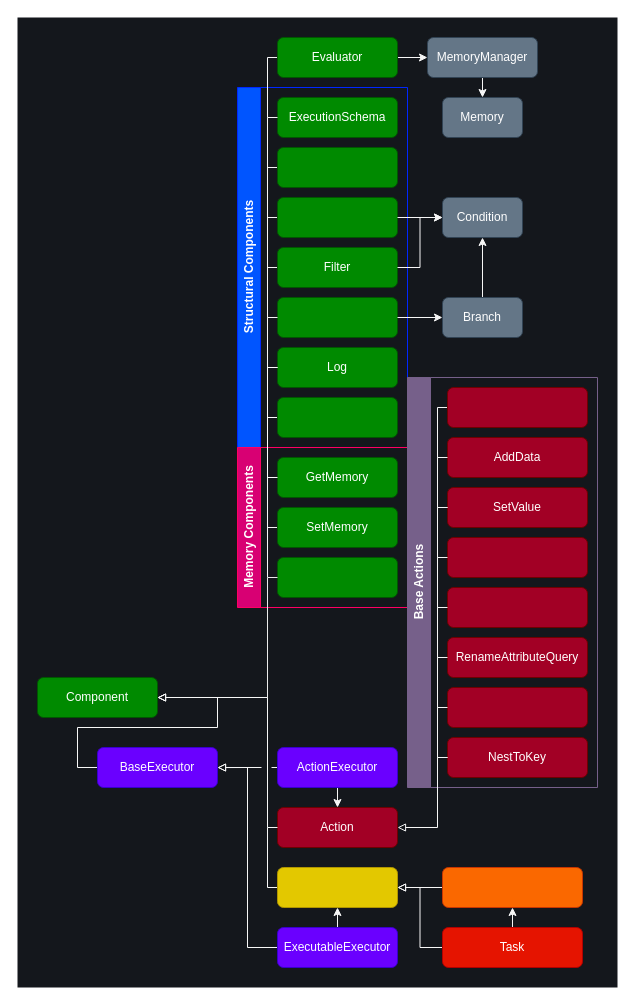
Some shapes in this 634 by 1004 pixel diagram are drawn without their labels. Here are the shapes that lost their labels. From the top down, the centre of each, then its label:
At (x=337, y=167): "ForEach".
At (x=337, y=217): "While".
At (x=337, y=317): "Switch".
At (x=337, y=417): "BREAK".
At (x=517, y=407): "Flush".
At (x=337, y=577): "DeleteMemory".
At (x=517, y=557): "ExecuteFunction".
At (x=517, y=607): "RenameAttribute".
At (x=517, y=707): "UnpackValue".
At (x=337, y=887): "Executable".
At (x=512, y=887): "Predictor".
